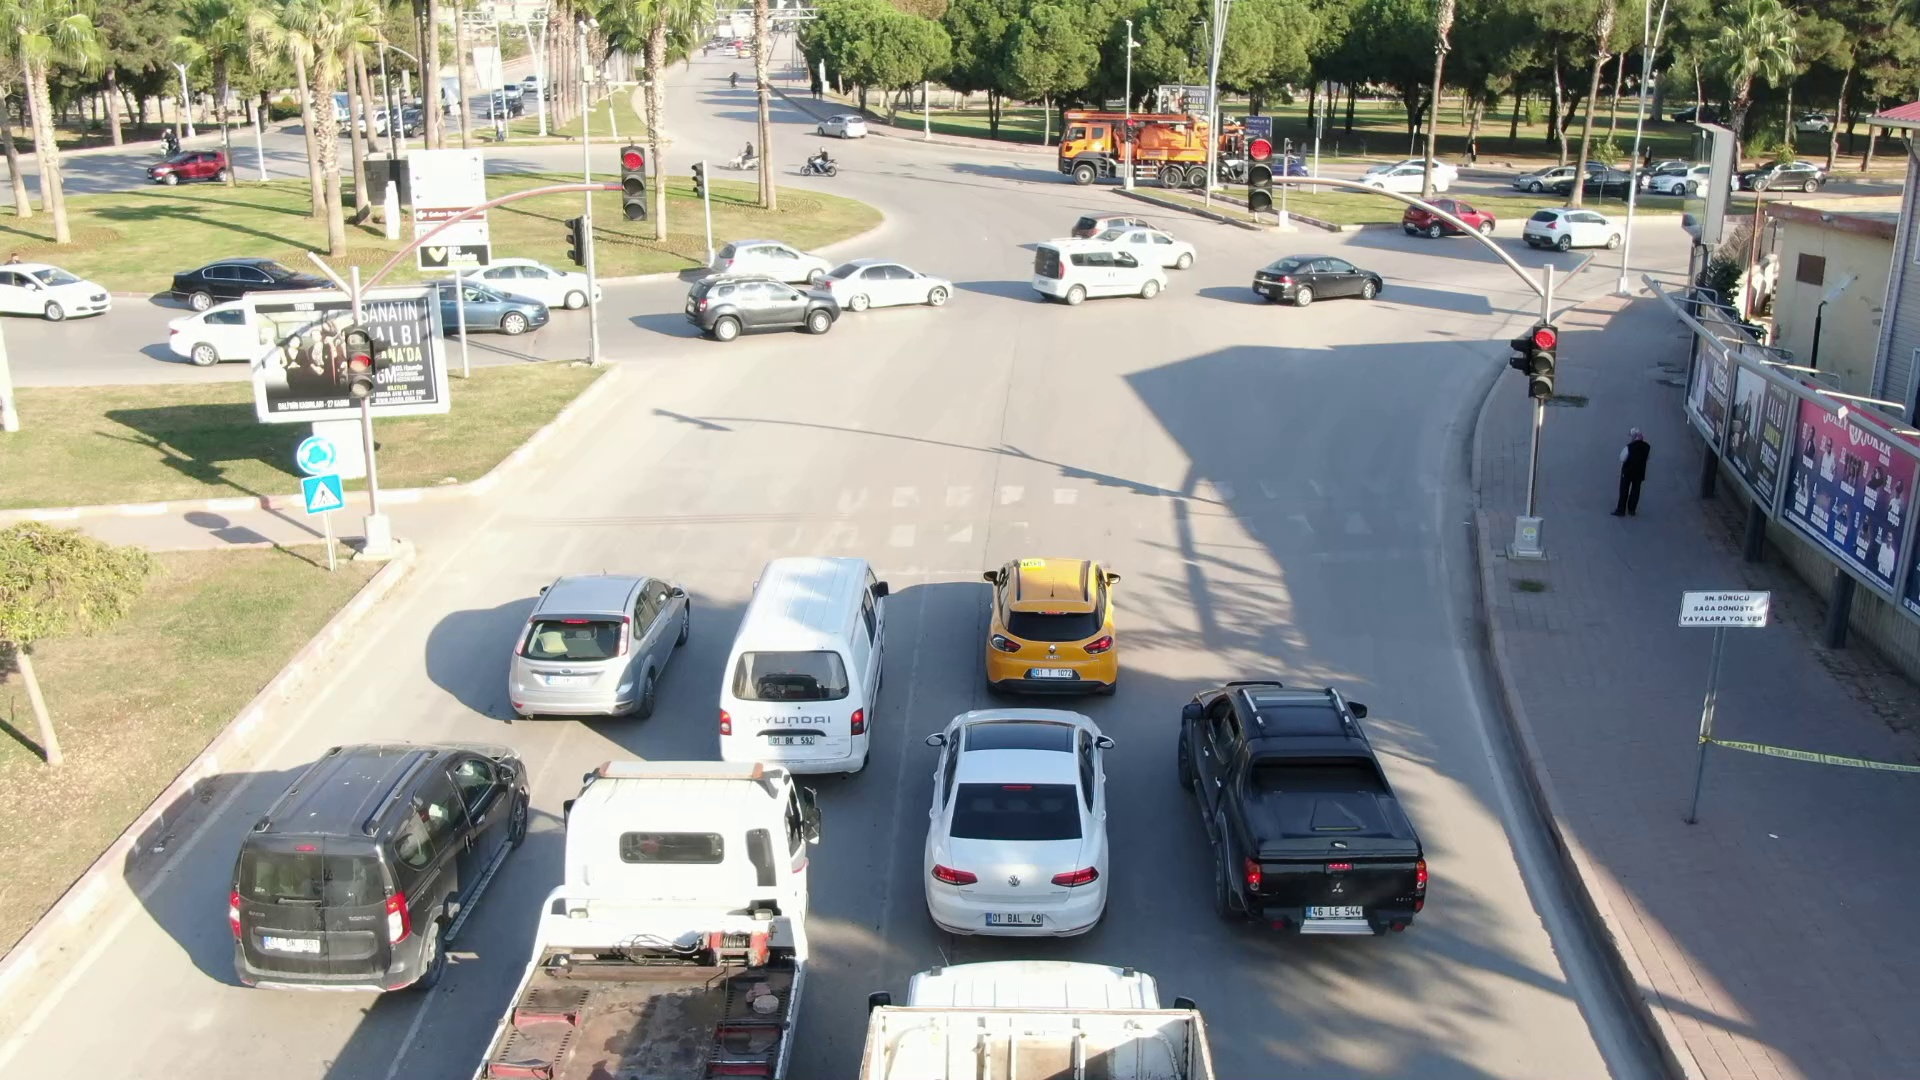car: (232, 737, 529, 978), (1178, 673, 1433, 947), (920, 704, 1116, 953), (716, 556, 885, 770), (512, 568, 698, 727), (978, 560, 1122, 695), (679, 280, 839, 336), (1031, 243, 1179, 303), (465, 251, 604, 310), (1247, 251, 1385, 305), (3, 262, 123, 322), (818, 264, 957, 310), (171, 260, 331, 299), (711, 237, 825, 287), (1520, 204, 1627, 249), (1407, 190, 1497, 240), (1360, 167, 1449, 196), (150, 153, 231, 182), (818, 109, 868, 140)
